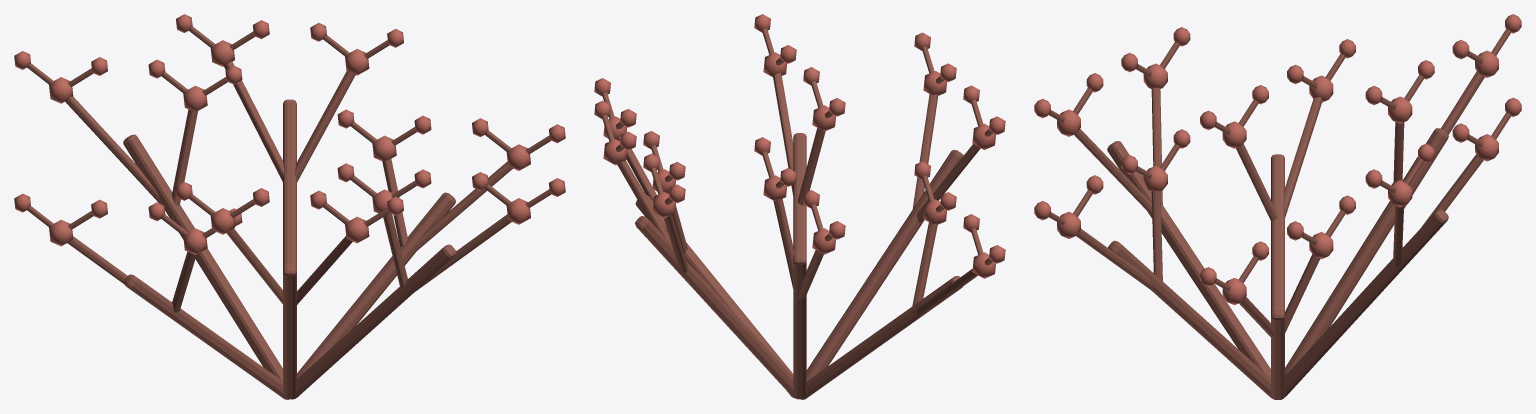
The model's file is shrub.glb.
3 views of the same model, side by side, from view 1: azimuth 30°, elevation 25°; view 2: azimuth 150°, elevation 25°; view 3: azimuth 270°, elevation 25° (orthographic). The views are drawn at different scales.
Visible parts, largest first — view 1: Bare bush limb.004, Bare bush limb.001, Bare bush limb, Bare bush limb.003, Bare bush limb.005, Bare bush limb.002, Simple fork.008, Simple fork.011, Simple fork.010, Simple fork.001, Simple fork.009, Simple fork.004 (+16 smaller); view 2: Bare bush limb.002, Bare bush limb.005, Bare bush limb.003, Bare bush limb.004, Bare bush limb.001, Bare bush limb, Simple fork.003, Simple fork.005, Simple fork.011, Simple fork.007, Simple fork.009, Simple fork.004 (+15 smaller); view 3: Bare bush limb.004, Bare bush limb.002, Bare bush limb.005, Bare bush limb.001, Bare bush limb.003, Bare bush limb, Simple fork.006, Simple fork.005, Simple fork.003, Simple fork.002, Simple fork.007, Simple fork.004 (+18 smaller).
Boxes of the visible parts, left/top/right/bottom form: Bare bush limb.004: left=123, top=134, right=282, bottom=380; Bare bush limb.001: left=292, top=244, right=456, bottom=399; Bare bush limb: left=297, top=192, right=455, bottom=378; Bare bush limb.003: left=124, top=274, right=288, bottom=399; Bare bush limb.005: left=283, top=99, right=296, bottom=266; Bare bush limb.002: left=283, top=263, right=296, bottom=399; Simple fork.008: left=65, top=96, right=161, bottom=204; Simple fork.011: left=294, top=71, right=355, bottom=182; Simple fork.010: left=224, top=61, right=283, bottom=181; Simple fork.001: left=414, top=161, right=512, bottom=252; Simple fork.009: left=172, top=109, right=197, bottom=205; Simple fork.004: left=226, top=229, right=283, bottom=303; Bare bush limb.002: left=806, top=150, right=963, bottom=381; Bare bush limb.005: left=635, top=216, right=797, bottom=399; Bare bush limb.003: left=800, top=275, right=962, bottom=399; Bare bush limb.004: left=793, top=252, right=806, bottom=399; Bare bush limb.001: left=793, top=133, right=806, bottom=255; Bare bush limb: left=635, top=194, right=793, bottom=397; Simple fork.003: left=773, top=73, right=793, bottom=195; Simple fork.005: left=912, top=93, right=938, bottom=208; Simple fork.011: left=617, top=161, right=671, bottom=243; Simple fork.007: left=912, top=222, right=937, bottom=305; Simple fork.009: left=773, top=199, right=794, bottom=288; Simple fork.004: left=917, top=144, right=980, bottom=222; Bare bush limb.004: left=1285, top=128, right=1448, bottom=375; Bare bush limb.002: left=1107, top=141, right=1270, bottom=378; Bare bush limb.005: left=1284, top=209, right=1448, bottom=397; Bare bush limb.001: left=1108, top=240, right=1271, bottom=398; Bare bush limb.003: left=1271, top=154, right=1284, bottom=309; Bare bush limb: left=1271, top=306, right=1284, bottom=399; Simple fork.006: left=1285, top=97, right=1322, bottom=217; Simple fork.005: left=1074, top=129, right=1152, bottom=215; Simple fork.003: left=1076, top=229, right=1153, bottom=290; Simple fork.002: left=1151, top=191, right=1162, bottom=280; Simple fork.007: left=1236, top=144, right=1277, bottom=221; Simple fork.004: left=1151, top=87, right=1162, bottom=204.
Bounding box in the file's own units: 2.62 × 1.56 × 2.24.
